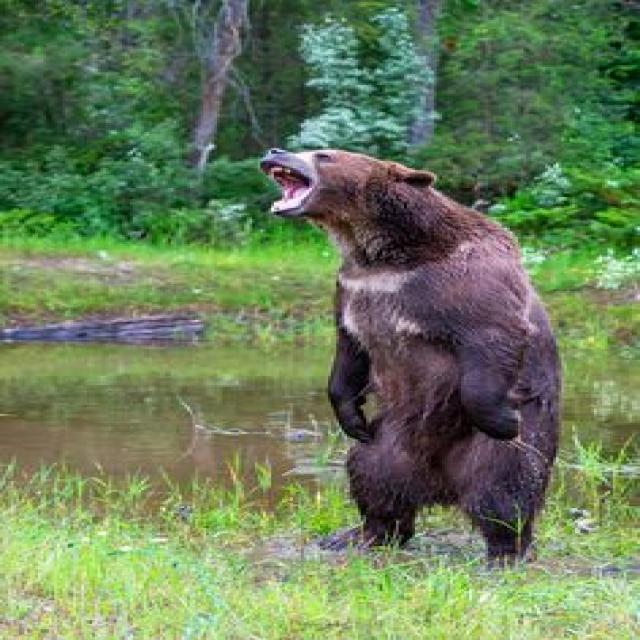Carnivorous: (258, 150, 564, 569)
